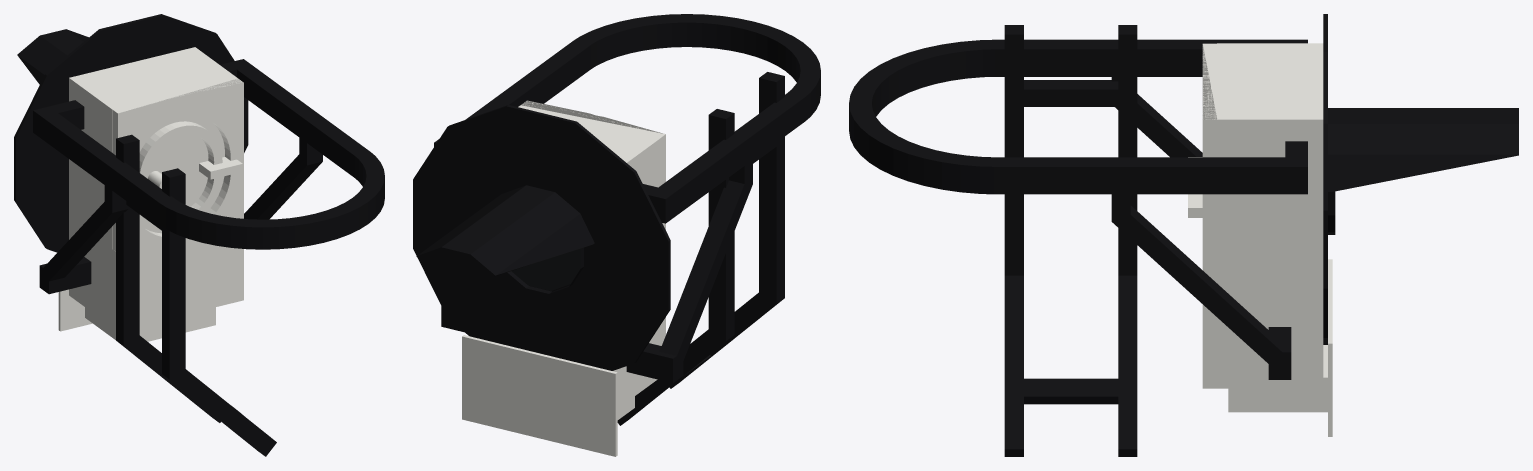
Rendered from 1chamber_right.obj.
3 views of the same model, side by side, from view 1: azimuth 30°, elevation 25°; view 2: azimuth 150°, elevation 25°; view 3: azimuth 270°, elevation 25° (orthographic). The views are drawn at different scales.
Parts seen in each view (by area): view 1: signal_head, railing, signal_plate, ladder_top, ladder_middle, signal_id; view 2: signal_plate, railing, signal_id, ladder_top, signal_head, ladder_middle, white; view 3: railing, signal_head, signal_plate, ladder_top, ladder_middle, signal_id.
Part boxes in pixels (box(x1,y1,x2,y2)): signal_head: box(69, 47, 243, 341); railing: box(33, 59, 384, 294); signal_plate: box(14, 14, 248, 252); ladder_top: box(116, 134, 185, 379); ladder_middle: box(118, 335, 276, 456); signal_id: box(58, 289, 92, 331); signal_plate: box(413, 105, 670, 370); railing: box(434, 14, 820, 382); signal_id: box(462, 335, 617, 456); ladder_top: box(708, 72, 784, 340); signal_head: box(518, 100, 665, 419); ladder_middle: box(617, 290, 781, 425); white: box(511, 248, 580, 290); railing: box(849, 39, 1307, 379); signal_head: box(1188, 43, 1327, 412); signal_plate: box(1323, 14, 1518, 344); ladder_top: box(1004, 25, 1137, 275); ladder_middle: box(1004, 275, 1137, 456); signal_id: box(1328, 259, 1332, 436).
Bounding box in the file's own units: 0.61 × 0.8544 × 1.23.
